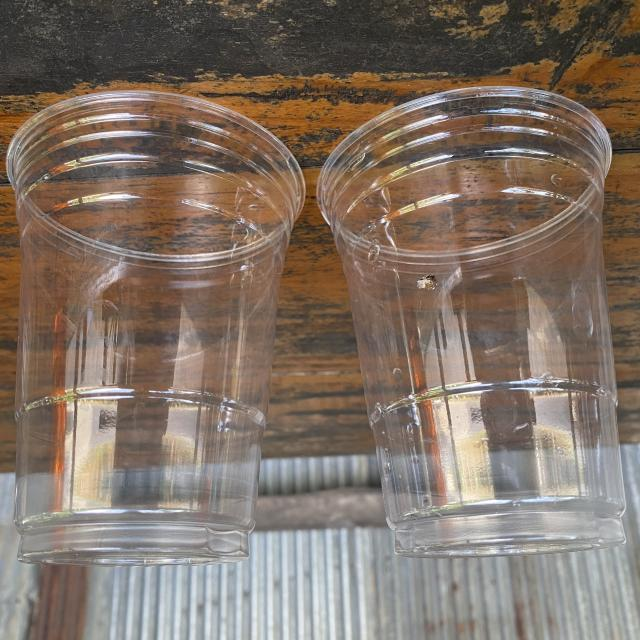plastik: (317, 87, 625, 557), (7, 92, 303, 564)
